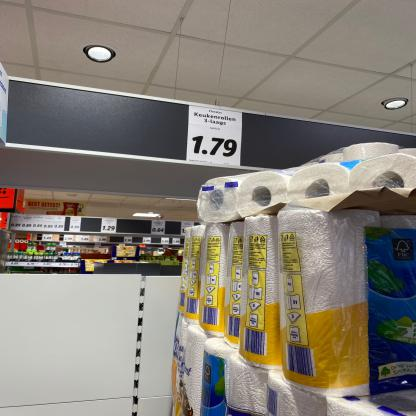prtg: (187, 106, 243, 167)
